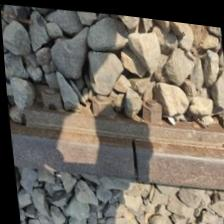person: (79, 104, 186, 211)
